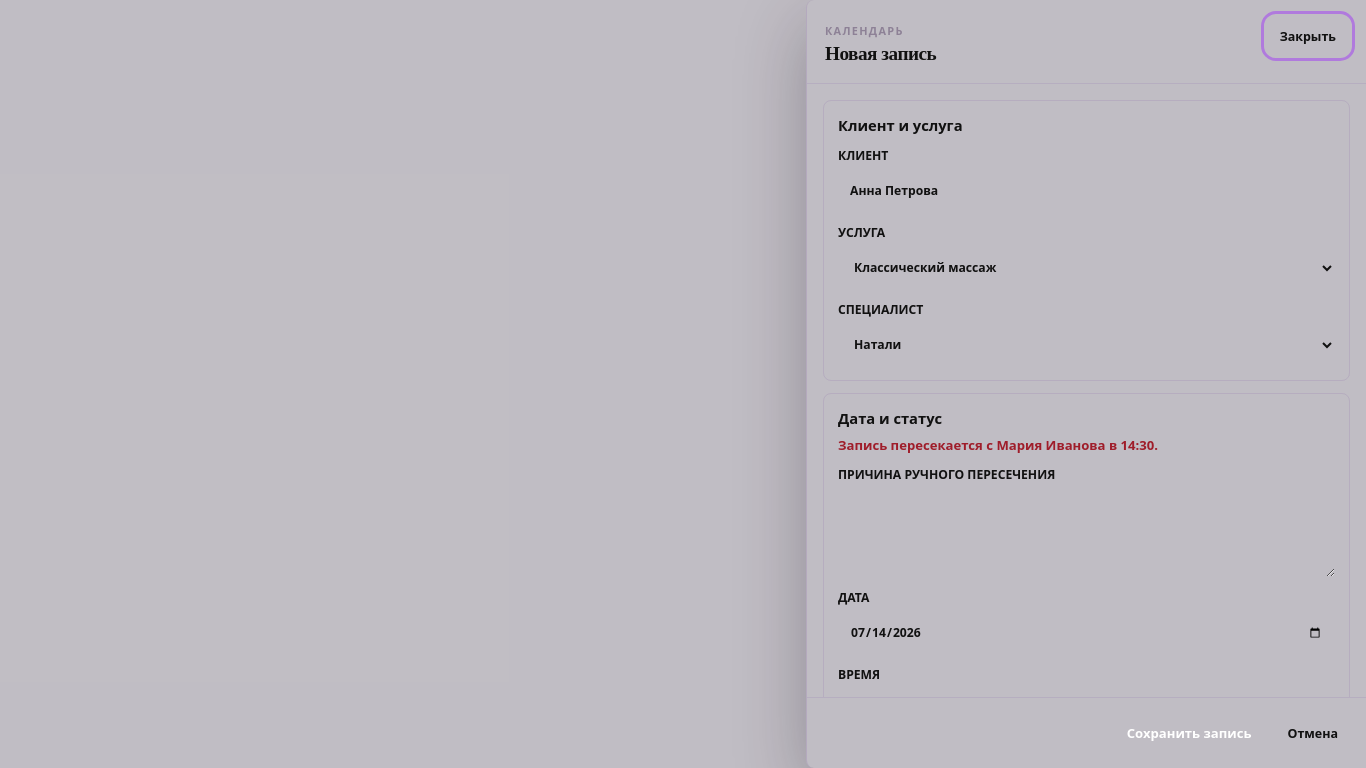
it: CalendarAppointmentDialog › keeps the dialog open with a validation error when a required date is cleared
Clear the date field labelled "Дата" at (1086, 633), box [838,612,1335,654]
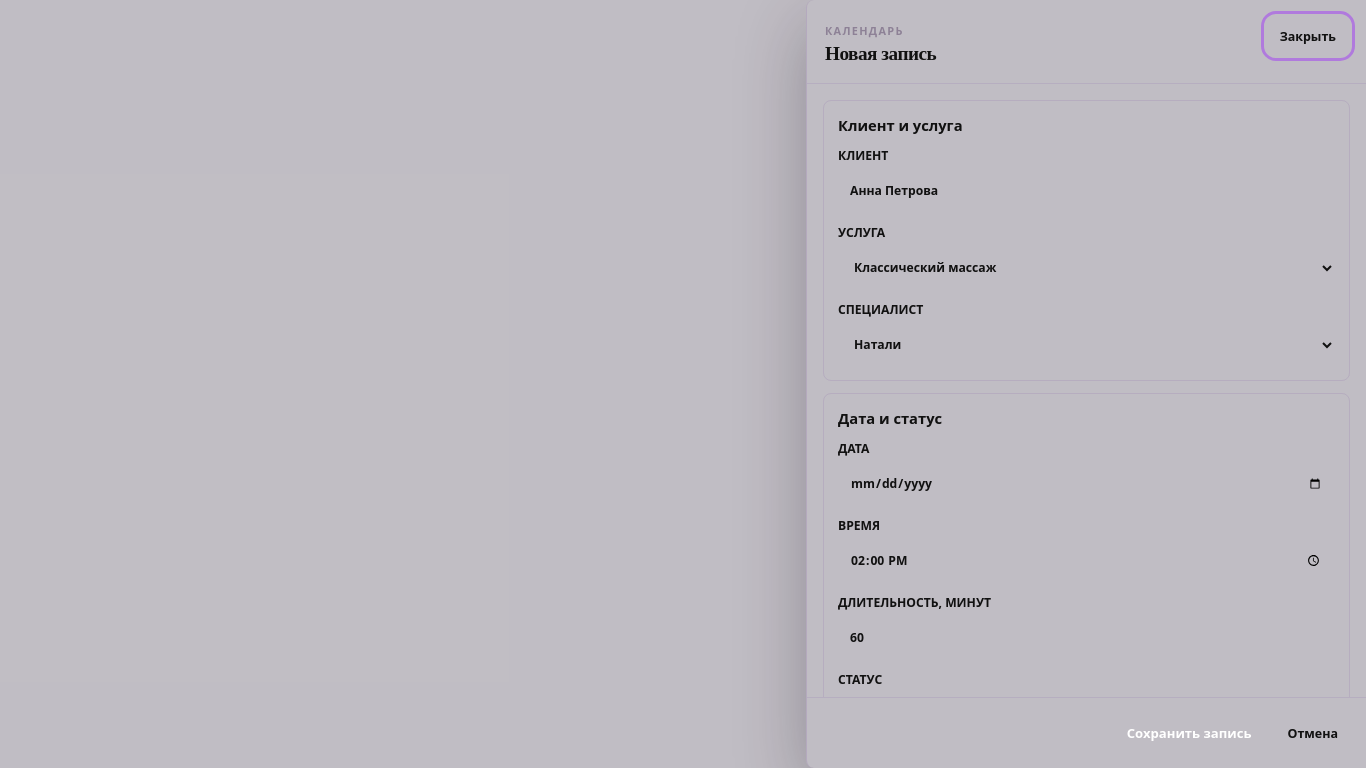
Click the button "Сохранить запись" at (1189, 733), box [1113,712,1266,754]
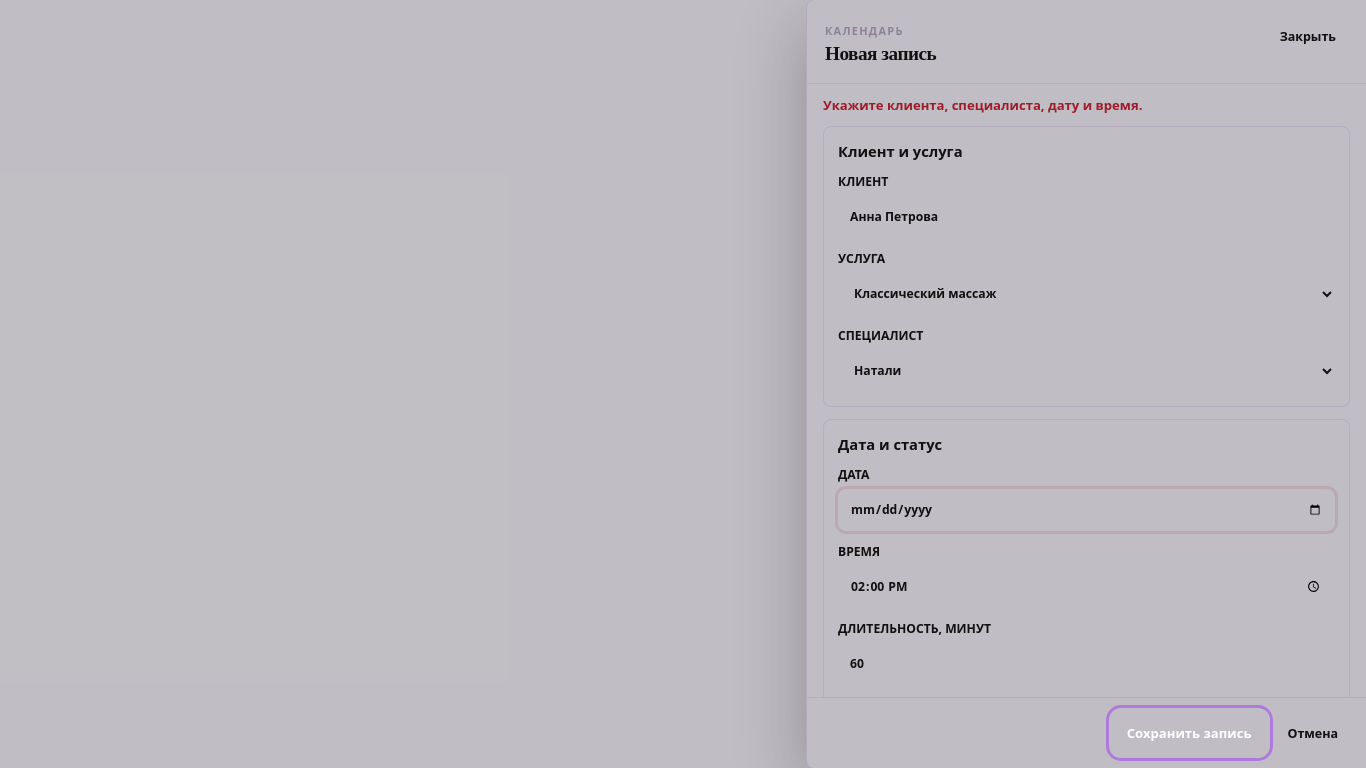
Expected: the message reads "Укажите клиента, специалиста, дату и время.", [823,96,1142,114]
